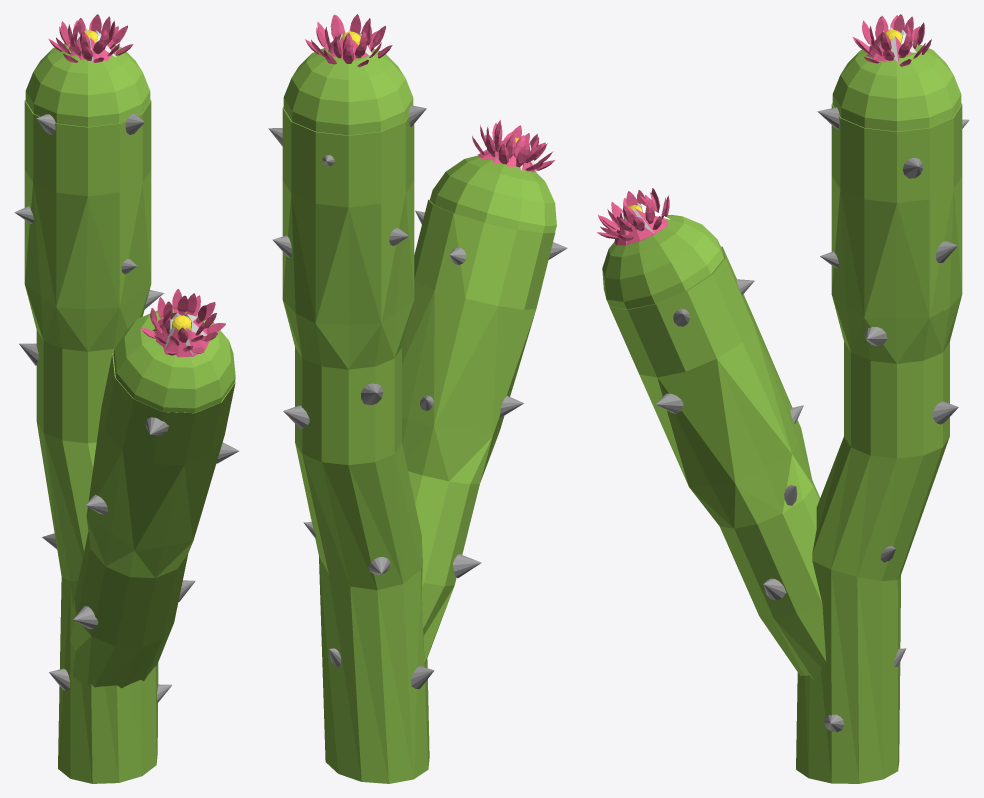
File: cactus.glb
The picture shows the model from 3 angles, left to right: view 1: azimuth 30°, elevation 25°; view 2: azimuth 150°, elevation 25°; view 3: azimuth 270°, elevation 25°; orthographic projection. The views are drawn at different scales.
Visible parts, largest first — view 1: Node; view 2: Node; view 3: Node.
Boxes of the visible parts, x1=… form: Node: x1=14, y1=14, x2=238, y2=783; Node: x1=268, y1=14, x2=567, y2=783; Node: x1=597, y1=14, x2=969, y2=783.
Bounding box in the file's own units: 0.1391 × 0.6323 × 0.2858.
